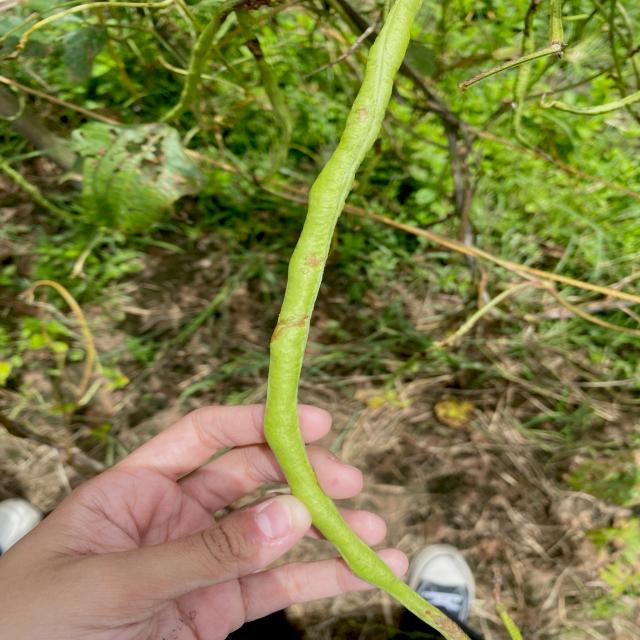sitaw-healthy: (265, 0, 461, 640)
